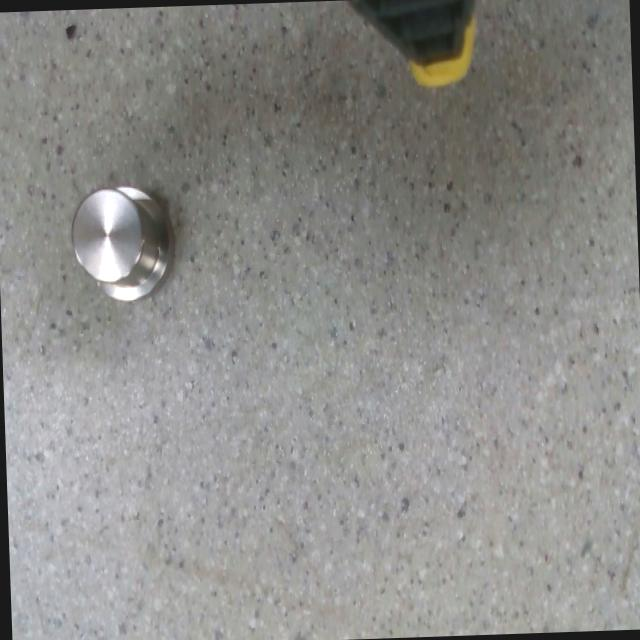sensor: (71, 184, 175, 301)
